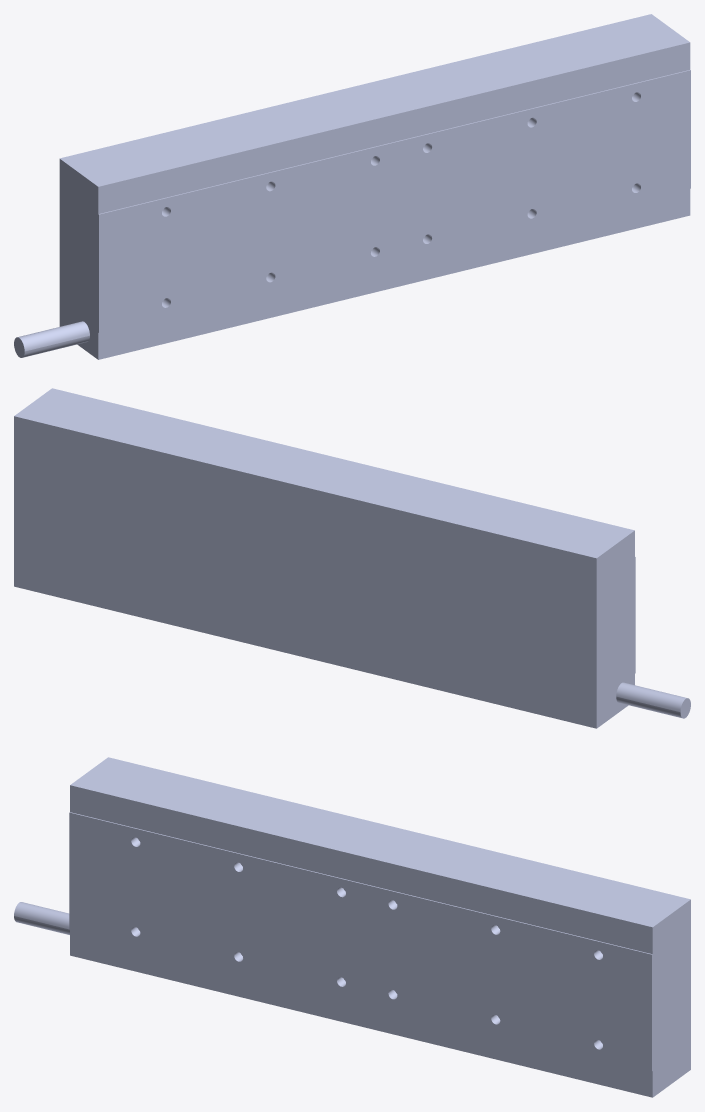
The model's file is MTB-15.glb.
The picture shows the model from 3 angles, top to bottom: view 1: azimuth 30°, elevation 25°; view 2: azimuth 150°, elevation 25°; view 3: azimuth 330°, elevation 25°; orthographic projection.
Parts seen in each view (by area): view 1: MTB-15_node_1; view 2: MTB-15_node_1; view 3: MTB-15_node_1.
Boxes of the visible parts, bbox=[...] form: MTB-15_node_1: bbox=[14, 14, 690, 359]; MTB-15_node_1: bbox=[14, 388, 690, 728]; MTB-15_node_1: bbox=[14, 757, 690, 1097].
Bounding box in the file's own units: 302 × 76 × 31.4.
